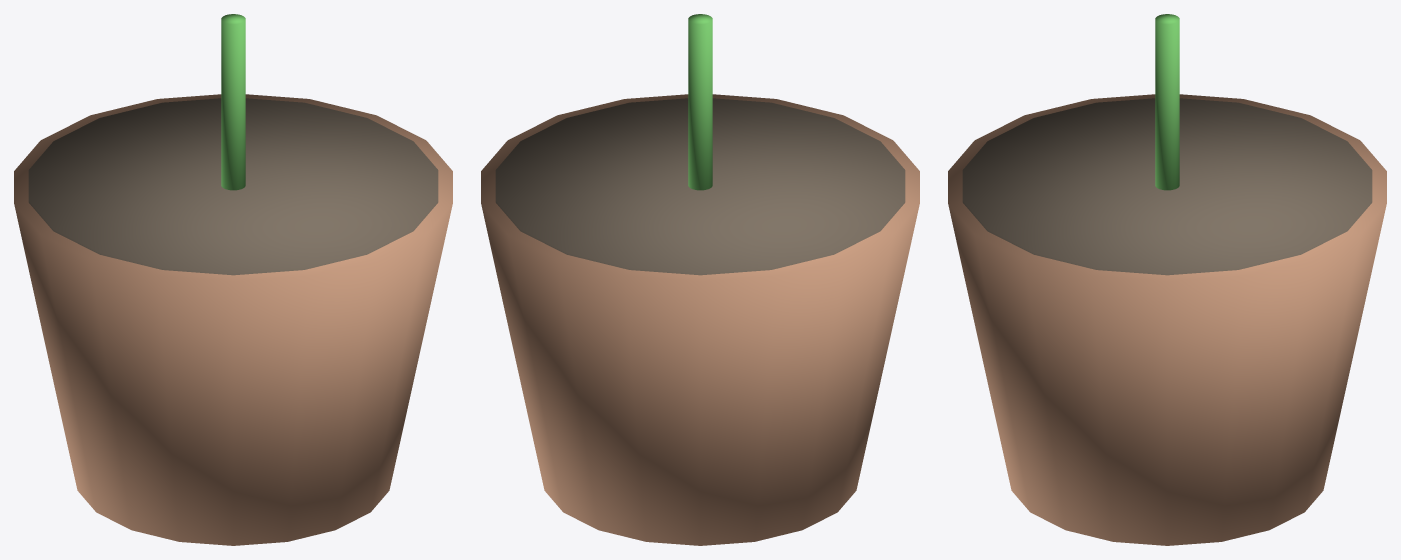
File: plant_pot.glb
3 views of the same model, side by side, from view 1: azimuth 30°, elevation 25°; view 2: azimuth 150°, elevation 25°; view 3: azimuth 270°, elevation 25° (orthographic).
Parts seen in each view (by area): view 1: pot, soil, stem; view 2: pot, soil, stem; view 3: pot, soil, stem.
Boxes of the visible parts, <box> form: pot: <box>14,94,452,545</box>; soil: <box>28,98,438,275</box>; stem: <box>221,14,245,190</box>; pot: <box>481,94,919,545</box>; soil: <box>495,98,905,275</box>; stem: <box>688,14,712,190</box>; pot: <box>948,94,1386,545</box>; soil: <box>962,98,1372,275</box>; stem: <box>1155,14,1179,190</box>.
Bounding box in the file's own units: 0.9 × 1.02 × 0.8863.
